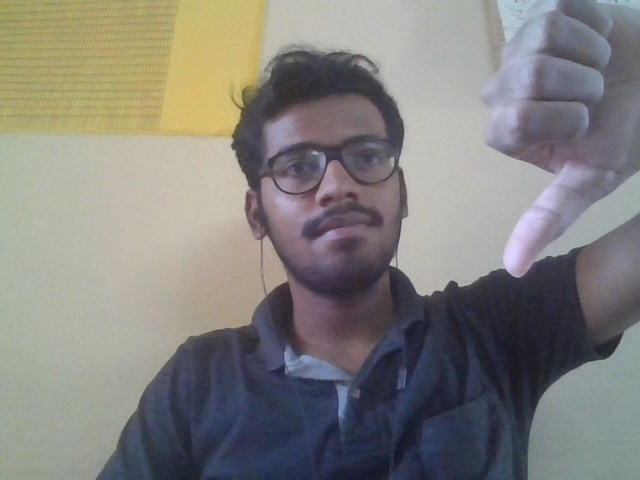ThumbsDown: (478, 1, 640, 278)
